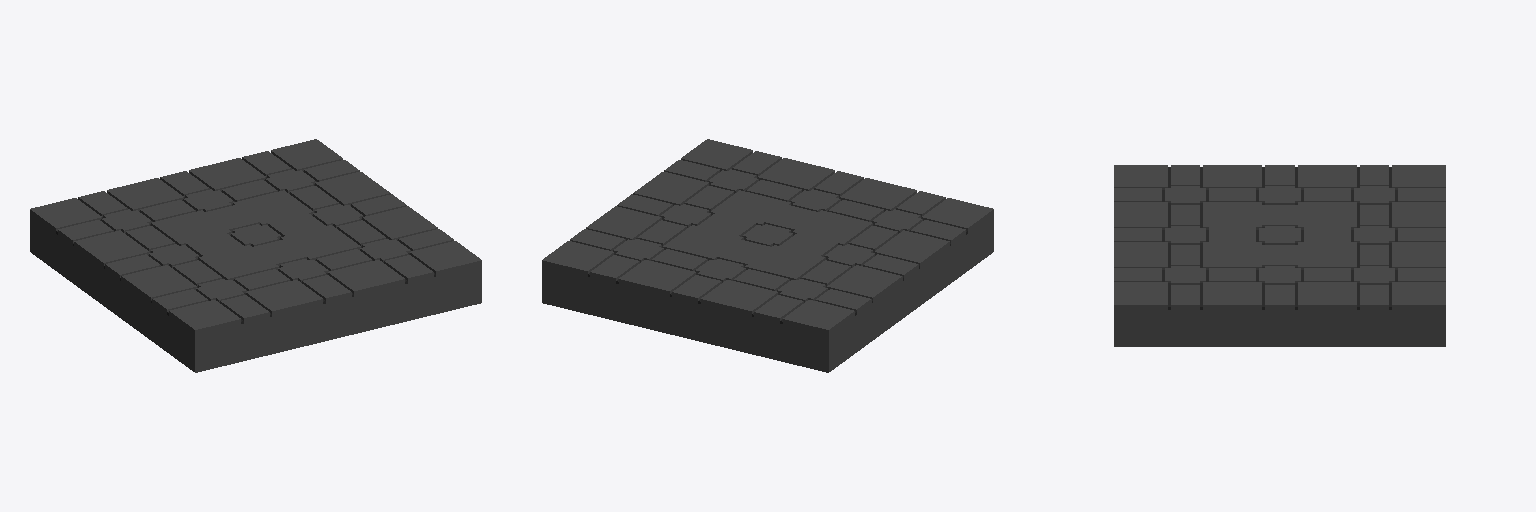
3 views of the same model, side by side, from view 1: azimuth 30°, elevation 25°; view 2: azimuth 150°, elevation 25°; view 3: azimuth 270°, elevation 25° (orthographic).
Parts seen in each view (by area): view 1: Floor2; view 2: Floor2; view 3: Floor2.
Part boxes in pixels (left/top/right/bottom): Floor2: left=30, top=139, right=481, bottom=372; Floor2: left=542, top=139, right=993, bottom=372; Floor2: left=1114, top=165, right=1445, bottom=346.
Size of the model in its own units: 7.06 by 1.01 by 7.06.
Materials: 1 (1 with a texture image).